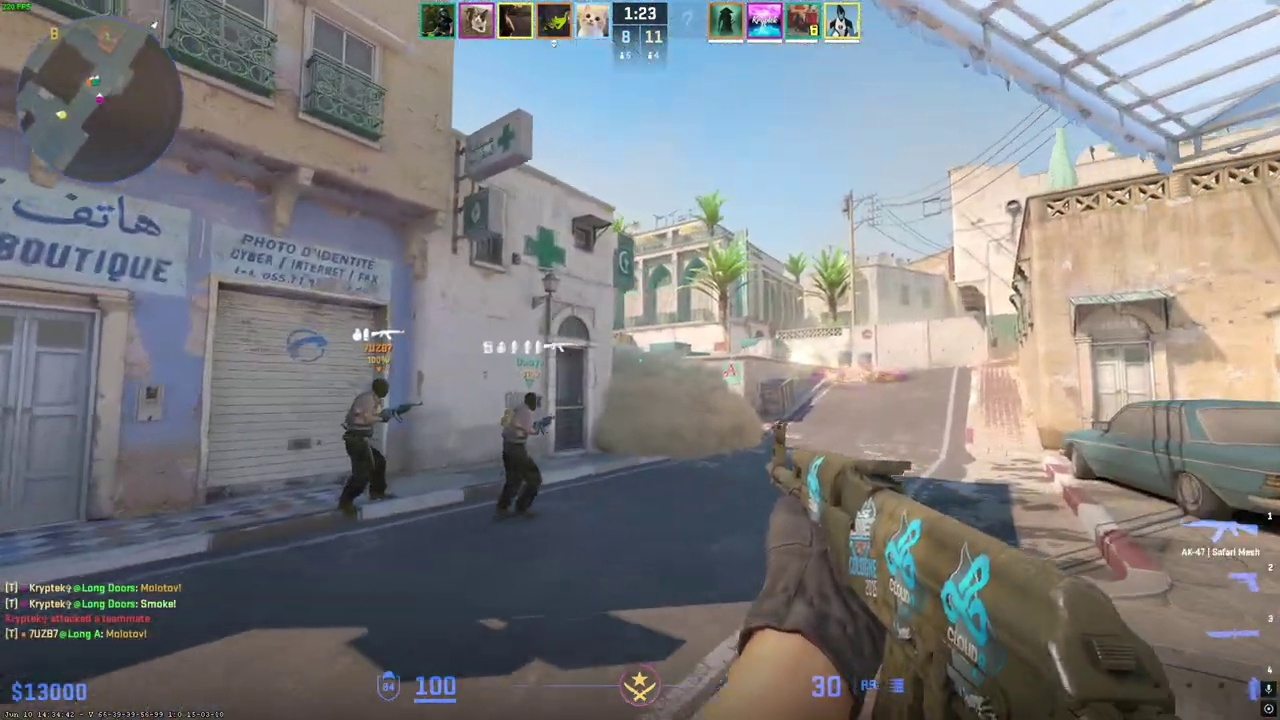Terrorist: (336, 377, 400, 516), (495, 392, 548, 518)
